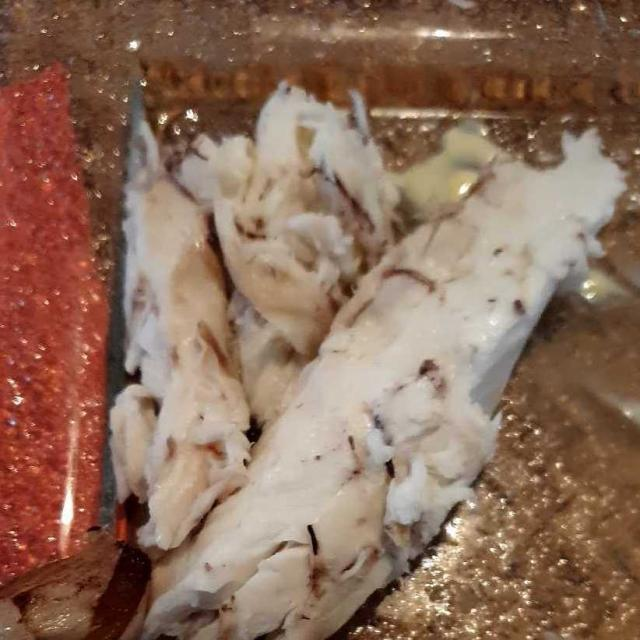fish: (111, 71, 613, 606)
